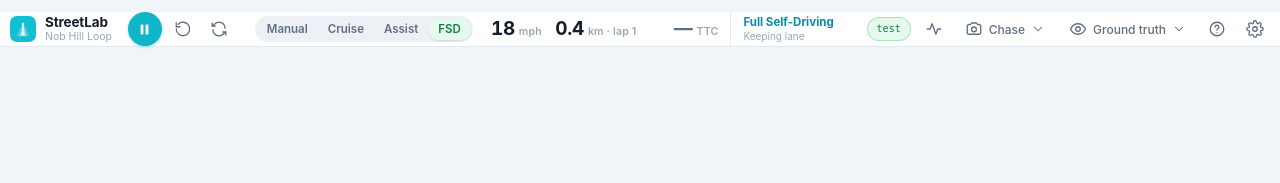
Test case: TopToolbar › labels the ML perception mode experimental in the control itself
Click the button titled "Perception source" at (1128, 29), box top-left (1061, 14), bottom-right (1194, 44)
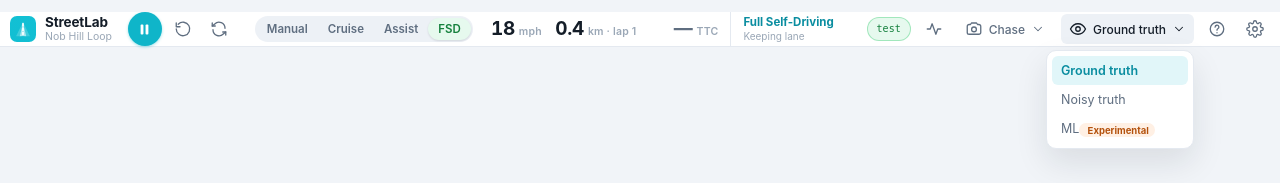
Now the menu item "ML Experimental" is shown, box top-left (1052, 114), bottom-right (1188, 143)
